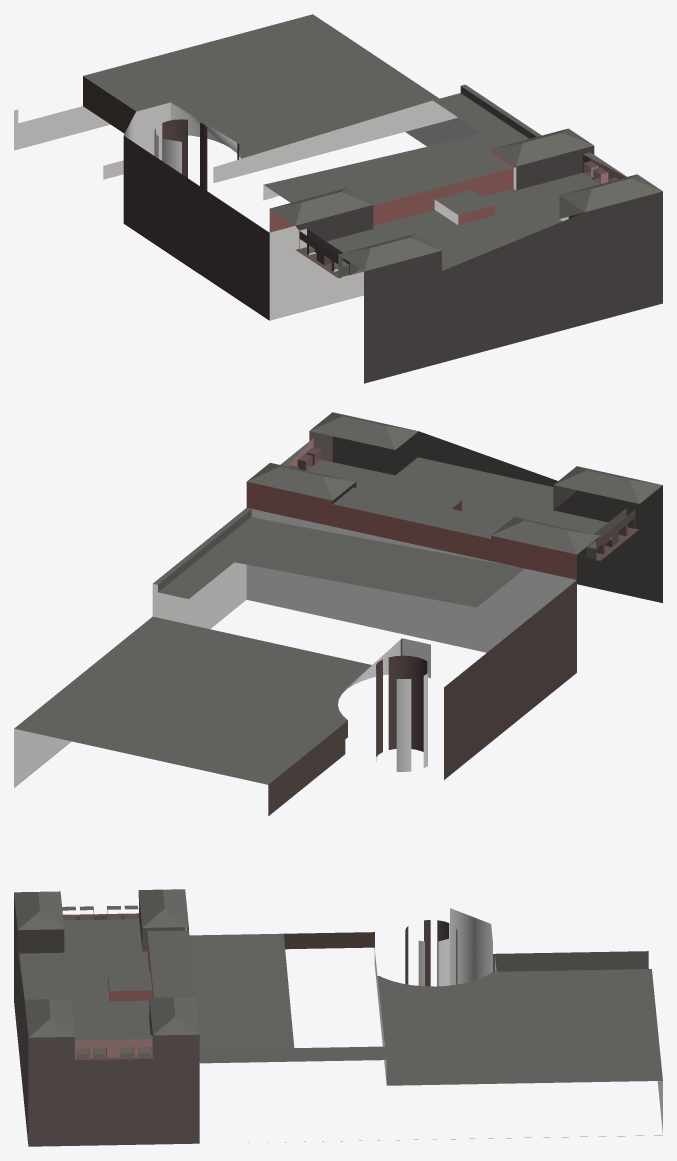
The model's file is market-court.glb.
3 renders of one model, top to bottom at view 1: azimuth 30°, elevation 25°; view 2: azimuth 150°, elevation 25°; view 3: azimuth 270°, elevation 25°, orthographic. The views are drawn at different scales.
Visible parts, largest first — view 1: LOD0; view 2: LOD0; view 3: LOD0.
Boxes of the visible parts, bbox=[...] form: LOD0: bbox=[14, 14, 662, 383]; LOD0: bbox=[14, 412, 662, 815]; LOD0: bbox=[14, 889, 662, 1146].
Size of what is drawn, in the model's own units: 65.69 by 23.16 by 115.
Materials: 2 (2 with a texture image).
